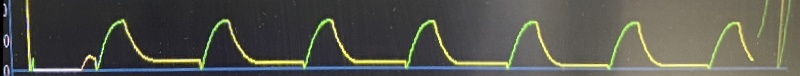leakage: (87, 10, 731, 75)
